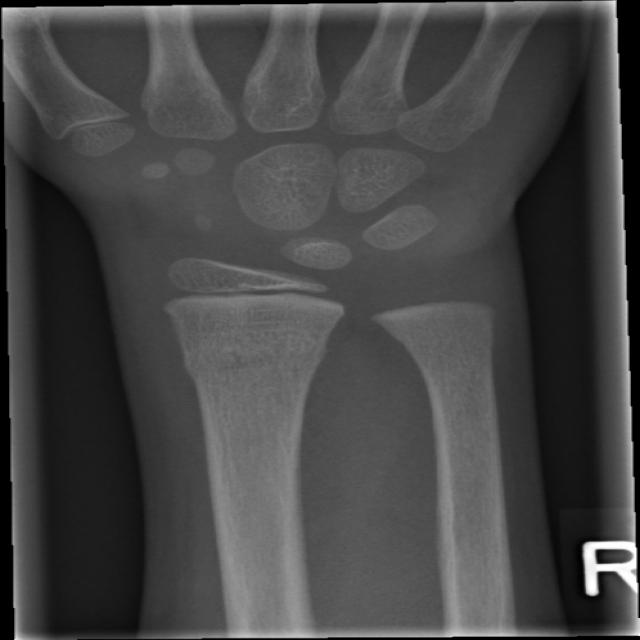radius fracture: (152, 308, 290, 424)
